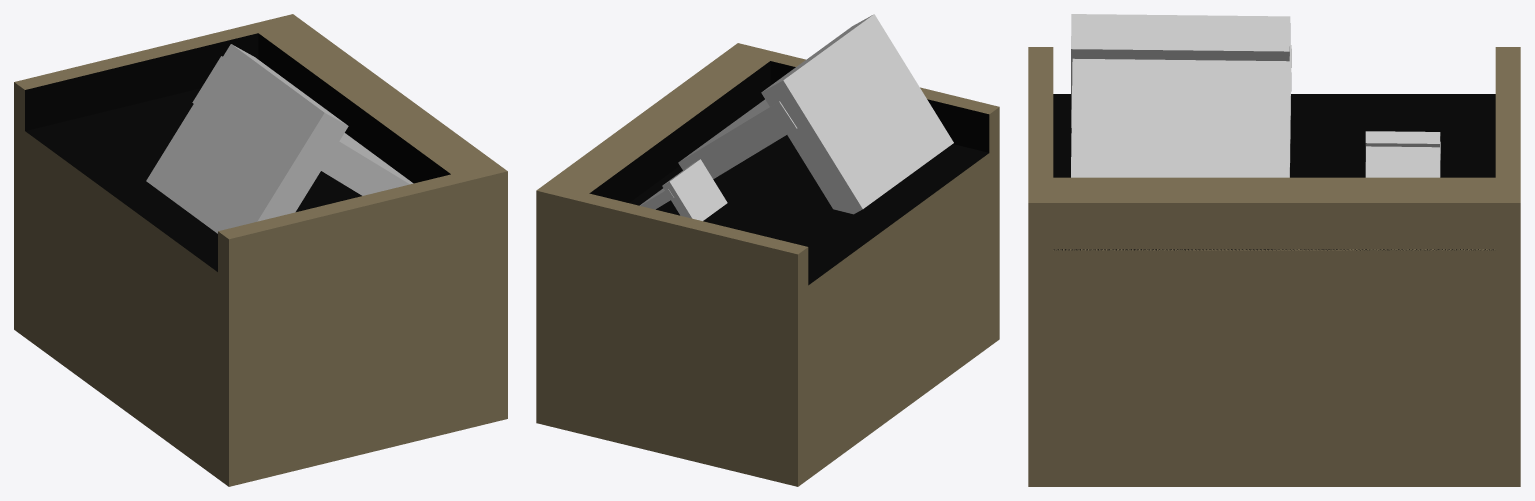
Rendered from stand_blender.obj.
3 views of the same model, side by side, from view 1: azimuth 30°, elevation 25°; view 2: azimuth 150°, elevation 25°; view 3: azimuth 270°, elevation 25° (orthographic). The views are drawn at different scales.
Parts seen in each view (by area): view 1: Box001_Untitled.001, computer_monitor_Untitled.003; view 2: Box001_Untitled.001, computer_monitor_Untitled.003, control_panel_Untitled.002; view 3: Box001_Untitled.001, computer_monitor_Untitled.003, control_panel_Untitled.002.
Boxes of the visible parts, x1,y1,x2,y2 form: Box001_Untitled.001: (14, 14, 507, 486); computer_monitor_Untitled.003: (146, 44, 413, 233); Box001_Untitled.001: (536, 43, 999, 486); computer_monitor_Untitled.003: (678, 14, 953, 214); control_panel_Untitled.002: (639, 159, 727, 220); Box001_Untitled.001: (1028, 47, 1520, 486); computer_monitor_Untitled.003: (1071, 14, 1291, 177); control_panel_Untitled.002: (1365, 131, 1440, 177).
Bounding box in the file's own units: 0.7522 × 0.8567 × 1.
